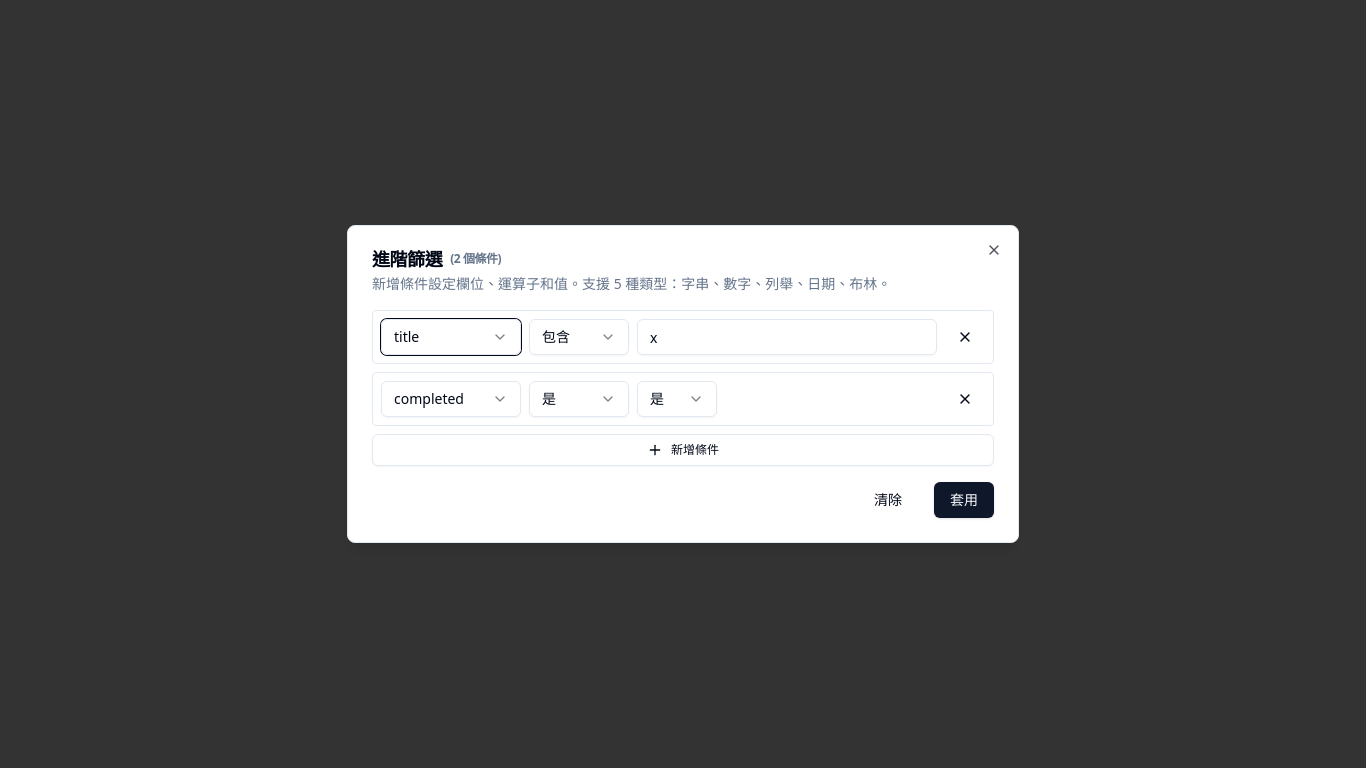
Scenario: Sprint D2 — AdvancedFilterDialog › 點「清除」→ 移除所有 rows
Expected: the number of elements with test id "filter-row" is 2, [372,310,994,364]; [372,372,994,426]
Click the button with test id "clear-button".
click(888, 500)  # box [858,482,918,518]
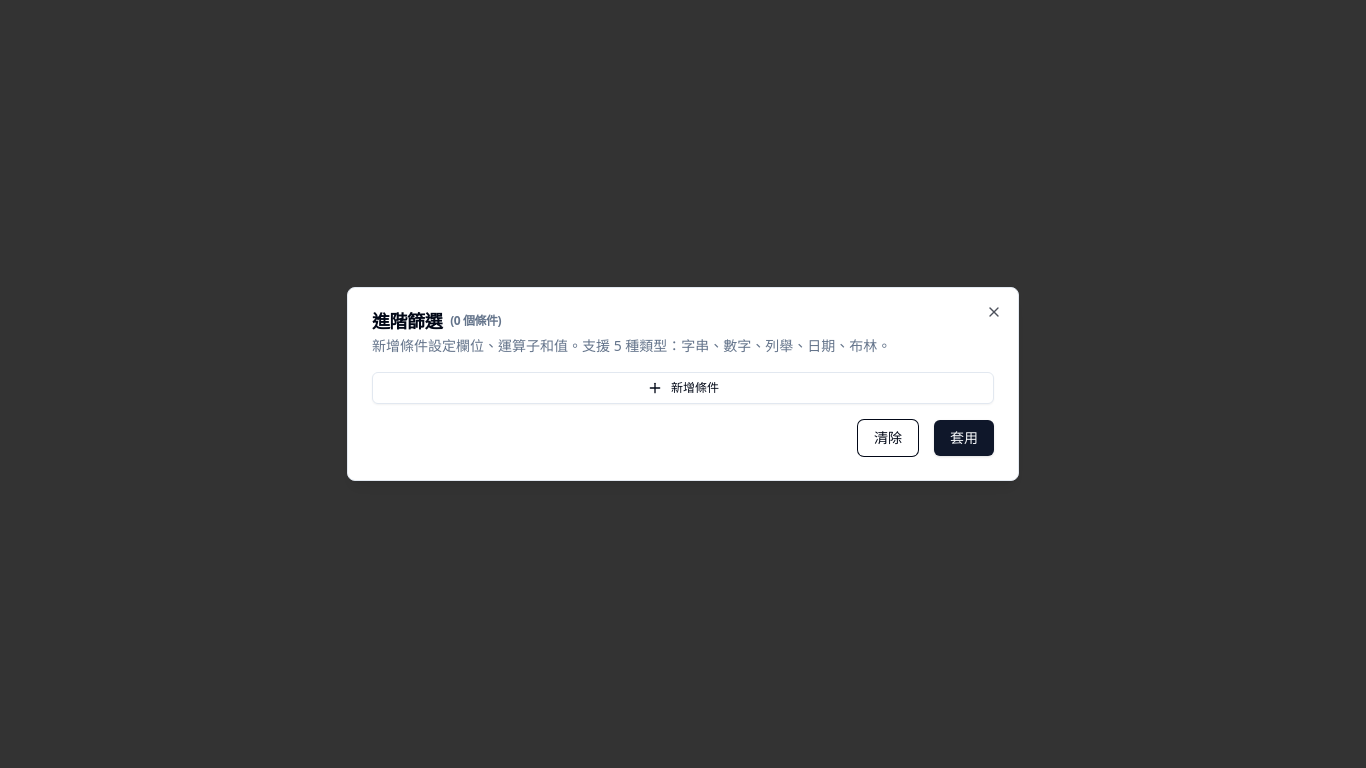
Expected: no elements with test id "filter-row" are shown
